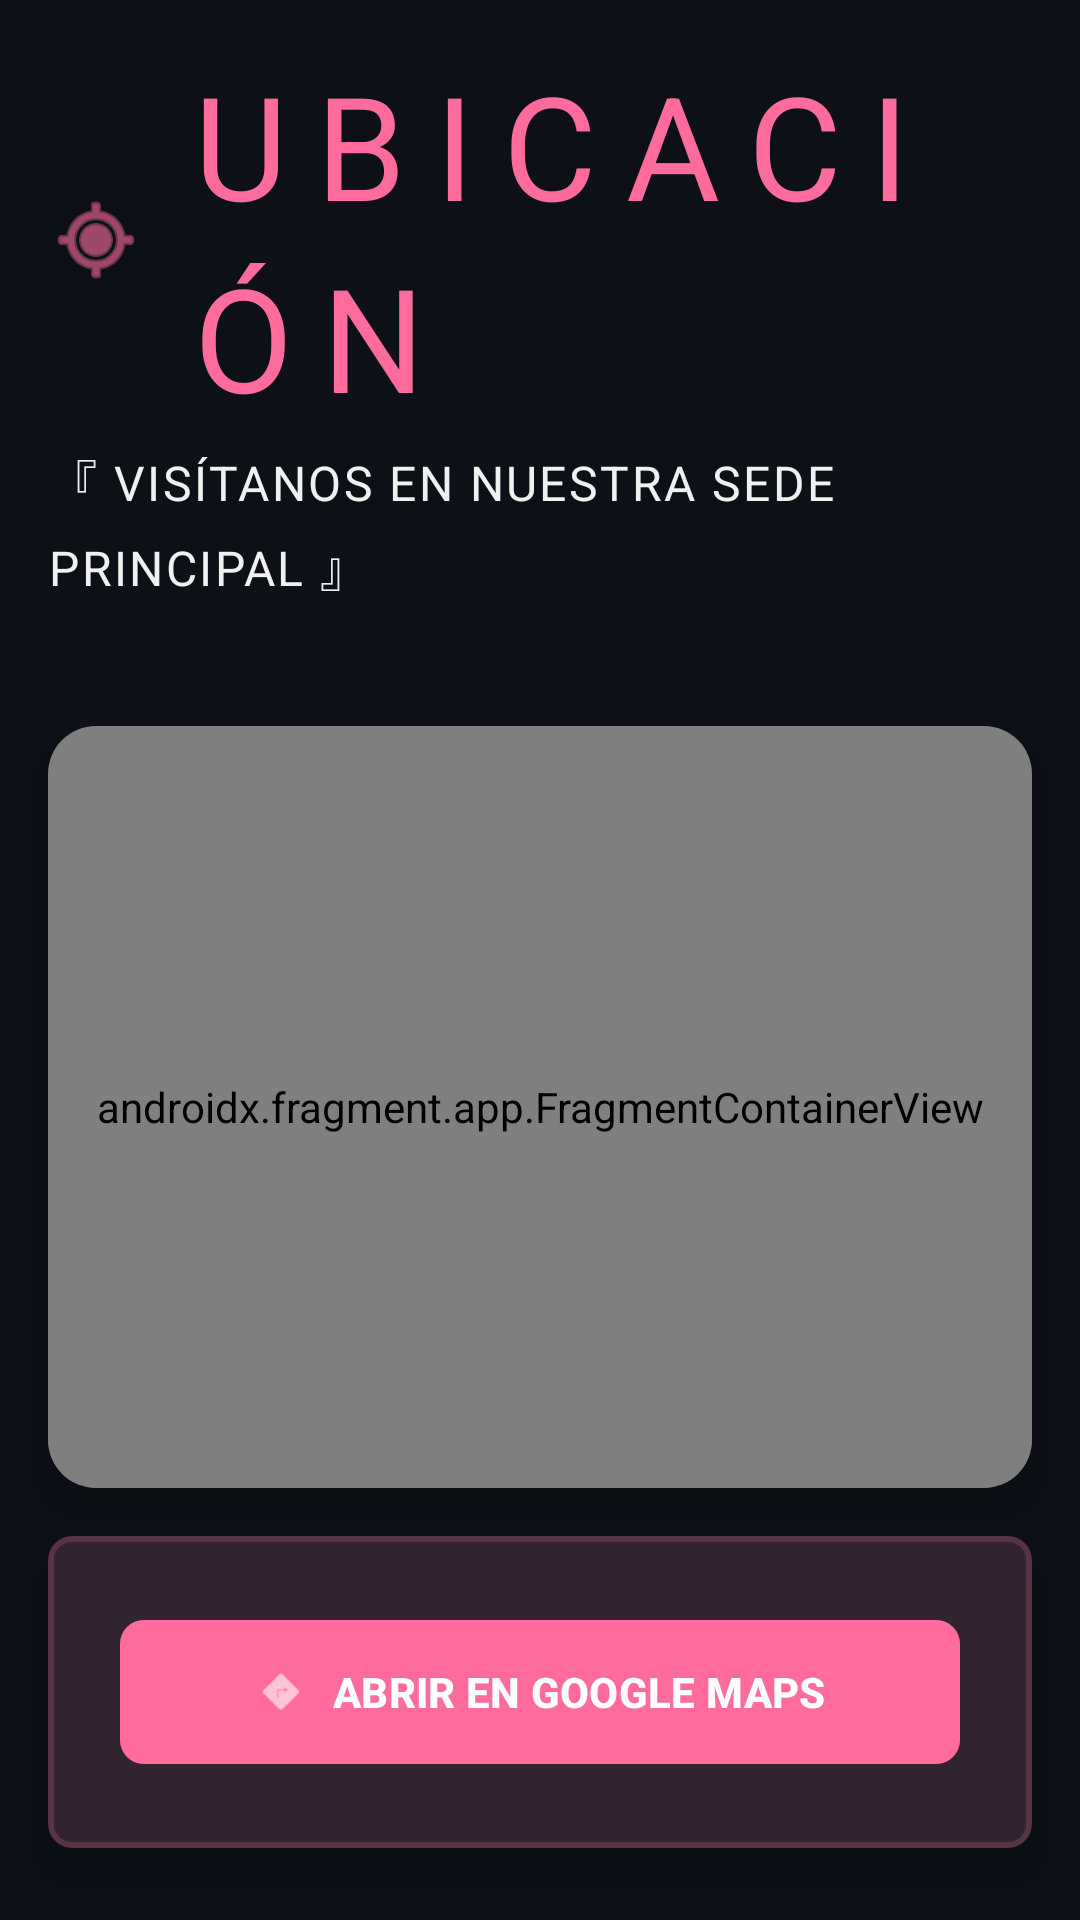

Icon click points for this 1080*1920 phone screenshot, format (x=x, y=y):
mylocation: (x=96, y=240)
